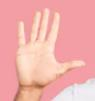down: (12, 8, 87, 86)
